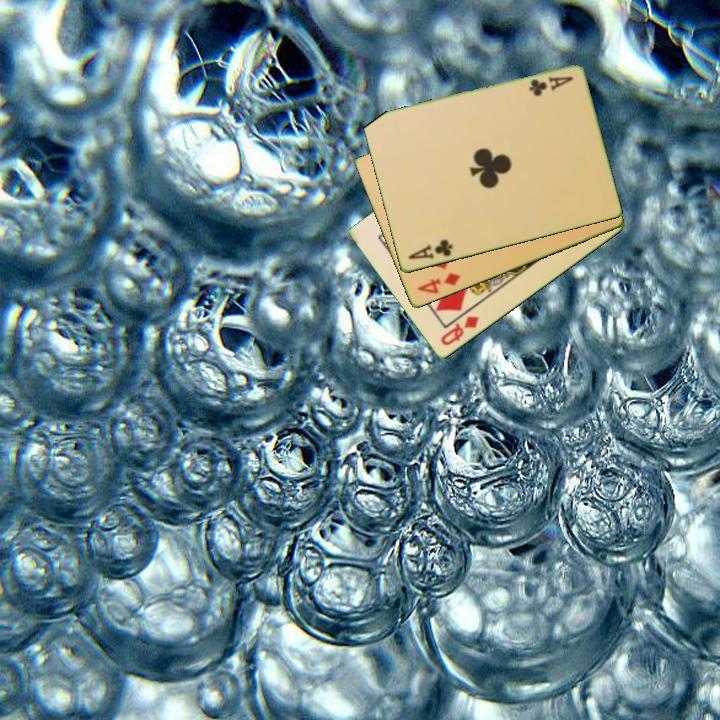4d: (413, 270, 462, 297)
Ac: (405, 236, 456, 263), (525, 73, 576, 99)
Qd: (437, 313, 482, 349)
